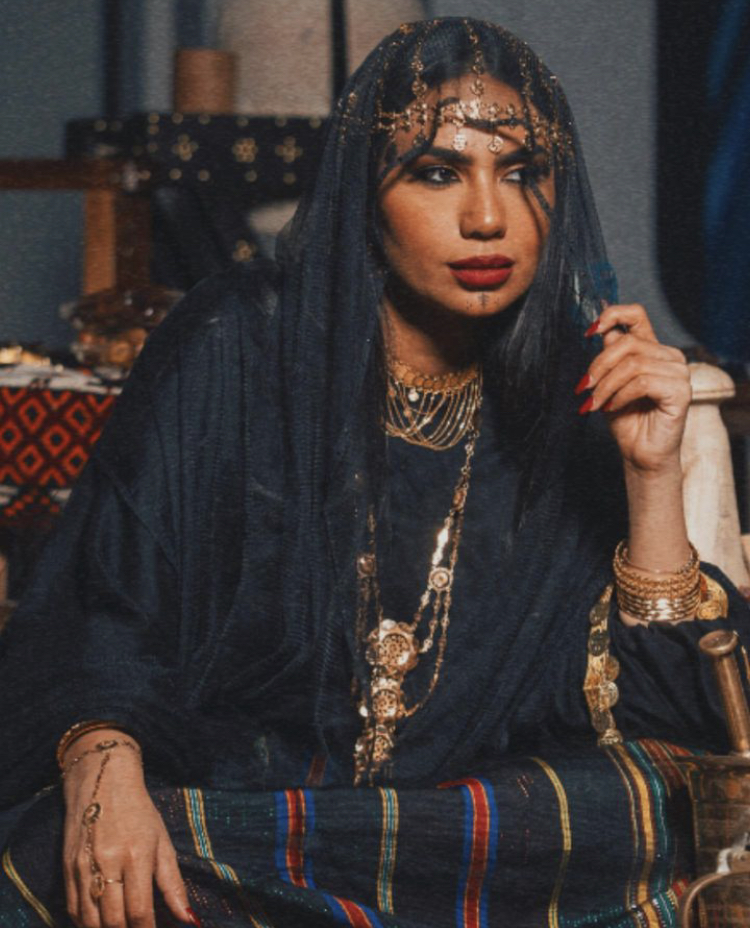Saudi_Founding_Day: (4, 14, 750, 928)
